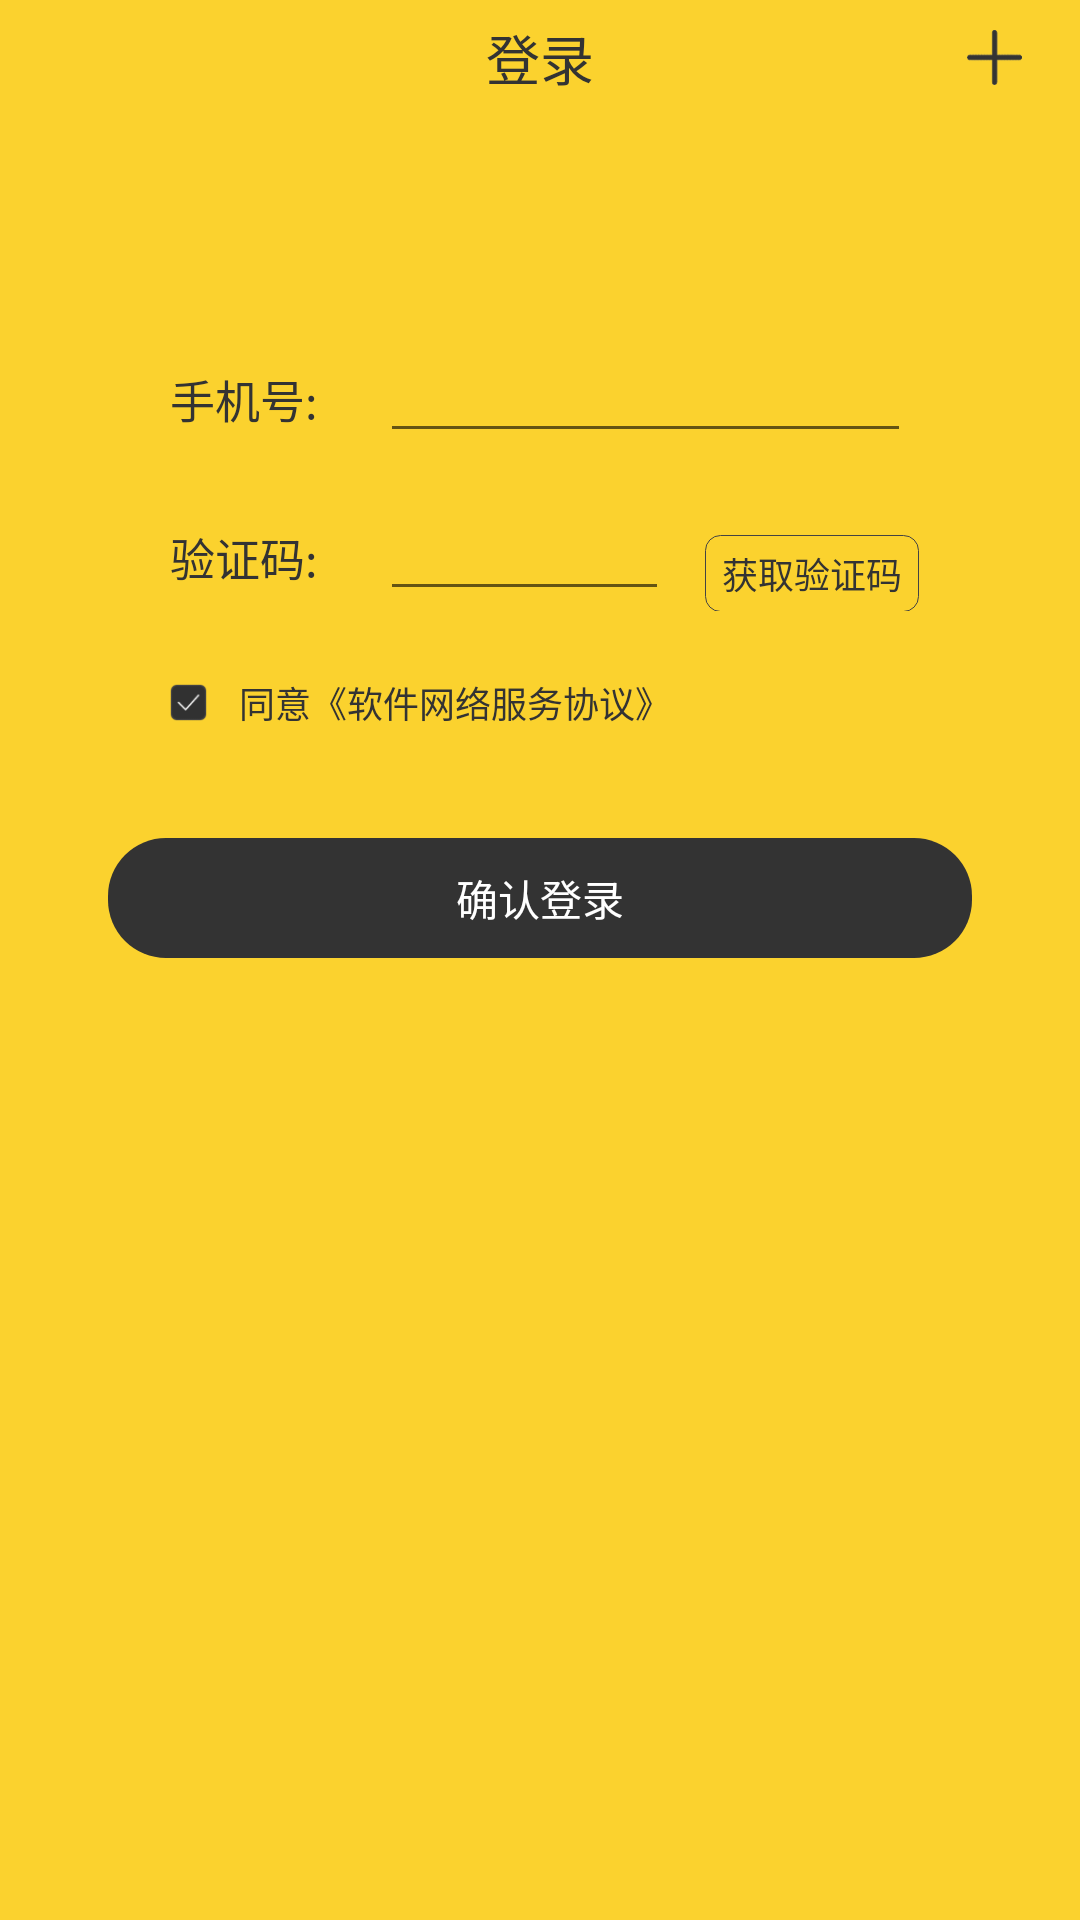

Icons on this 1080 x 1920 Android screen, each with its box as [left=x1, top=y1, right=x2, bottom=y2]:
add: [left=967, top=30, right=1022, bottom=85]
